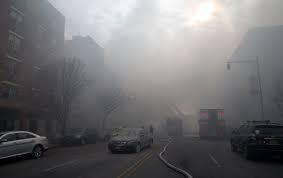smoke: (77, 11, 261, 125)
